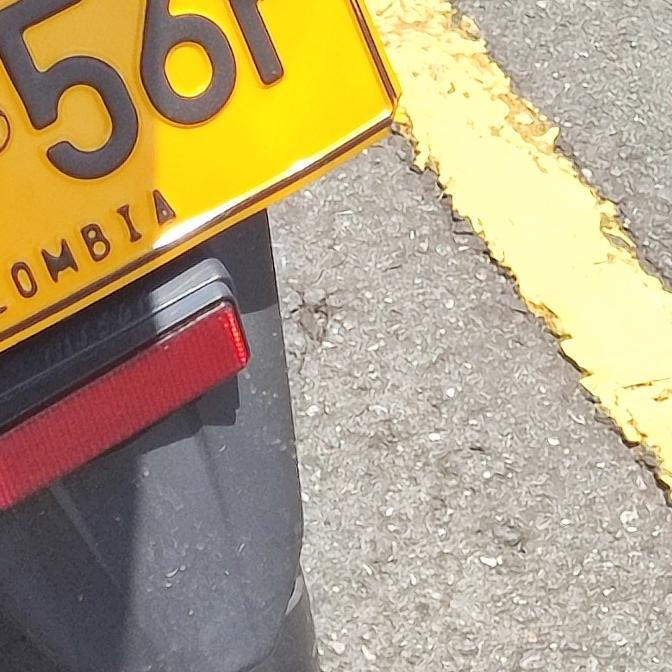plates: (0, 0, 418, 335)
